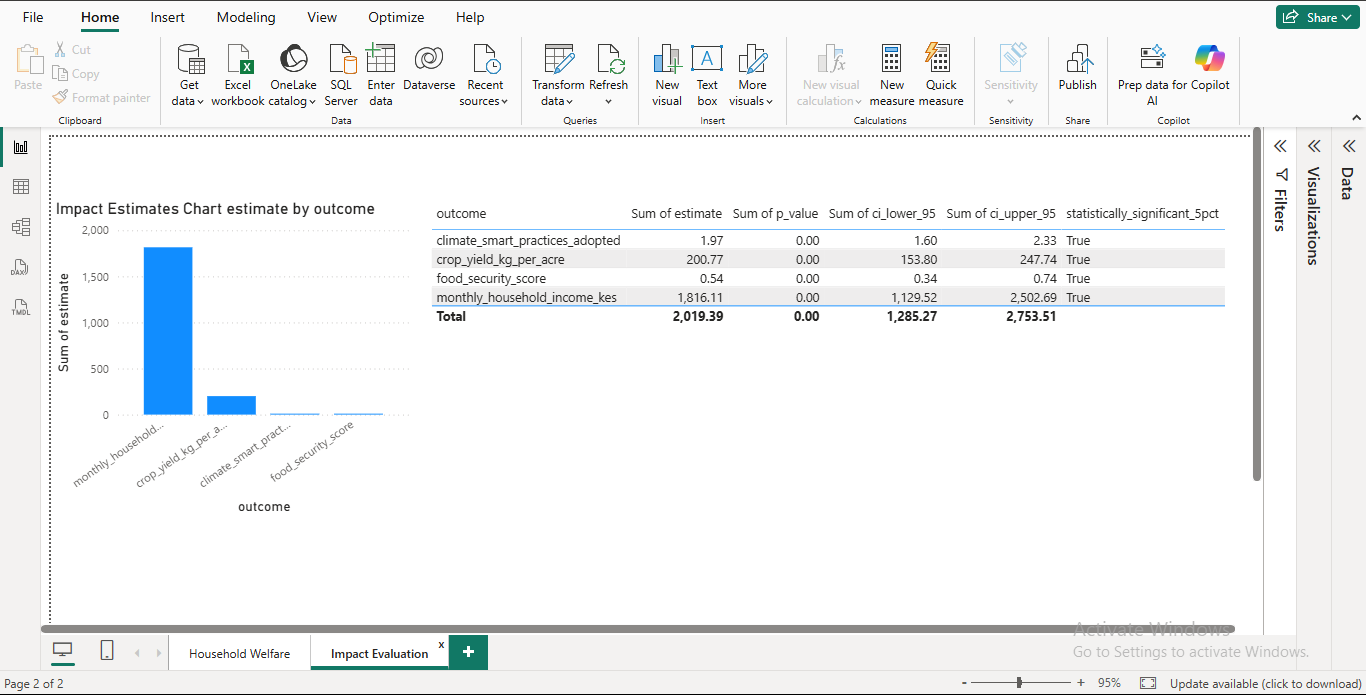

Layout of this report page (visuals, bound fields, positions):
{"tool":"powerbi","page":{"name":"Impact Evaluation","canvas":[1280,720],"ordinal":1},"visuals":[{"type":"clusteredColumnChart","title":"Impact Estimates Chart estimate by outcome","fields":{"Category":["R_difference_in_differences_results.outcome"],"Y":["Sum(R_difference_in_differences_results.estimate)"]},"box":[0,65.5,383,336],"z":0},{"type":"tableEx","fields":{"Values":["R_difference_in_differences_results.outcome","Sum(R_difference_in_differences_results.estimate)","Sum(R_difference_in_differences_results.p_value)","Sum(R_difference_in_differences_results.ci_lower_95)","Sum(R_difference_in_differences_results.ci_upper_95)","R_difference_in_differences_results.statistically_significant_5pct"]},"box":[394.8,65.5,846.6,166.3],"z":1000}]}

Visuals, with their boxes on the page's 1280x720 design canvas (x1, y1, x2, y2). These are canvas units, not pixel positions in the 1366x695 screenshot, which may show the page scaled, cropped or inside an application window:
"Impact Estimates Chart estimate by outcome" clusteredColumnChart: {"left": 0, "top": 66, "right": 383, "bottom": 402}
tableEx - R_difference_in_differences_results.outcome x Sum(R_difference_in_differences_results.estimate): {"left": 395, "top": 66, "right": 1241, "bottom": 232}
